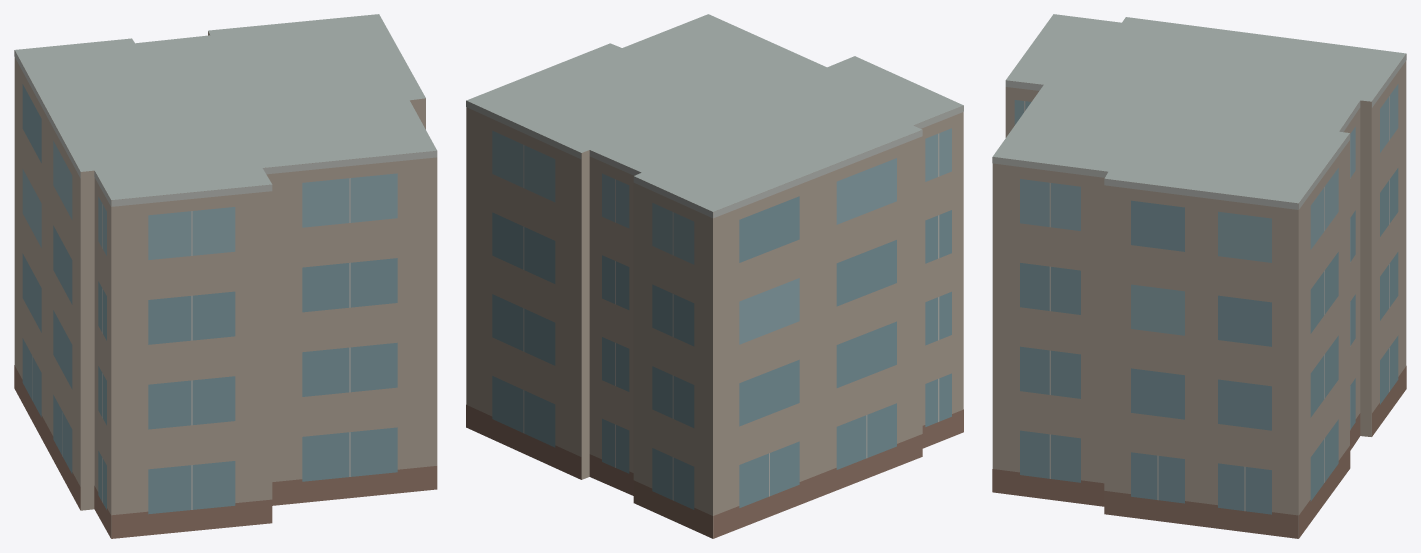
The model's file is survey-upis-32988360.glb.
3 views of the same model, side by side, from view 1: azimuth 30°, elevation 25°; view 2: azimuth 150°, elevation 25°; view 3: azimuth 270°, elevation 25° (orthographic). The views are drawn at different scales.
Parts seen in each view (by area): view 1: survey-upis-32988360.tmp; view 2: survey-upis-32988360.tmp; view 3: survey-upis-32988360.tmp.
Boxes of the visible parts, bbox=[...] form: survey-upis-32988360.tmp: bbox=[14, 14, 437, 538]; survey-upis-32988360.tmp: bbox=[466, 14, 963, 538]; survey-upis-32988360.tmp: bbox=[992, 14, 1406, 538].
Size of the model in its own units: 14.9 by 12.3 by 13.76.
